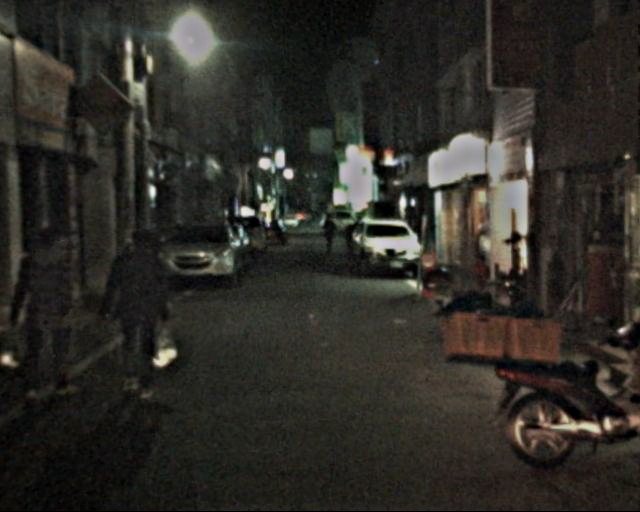person: (10, 221, 90, 400), (106, 225, 174, 402), (319, 214, 338, 254)
